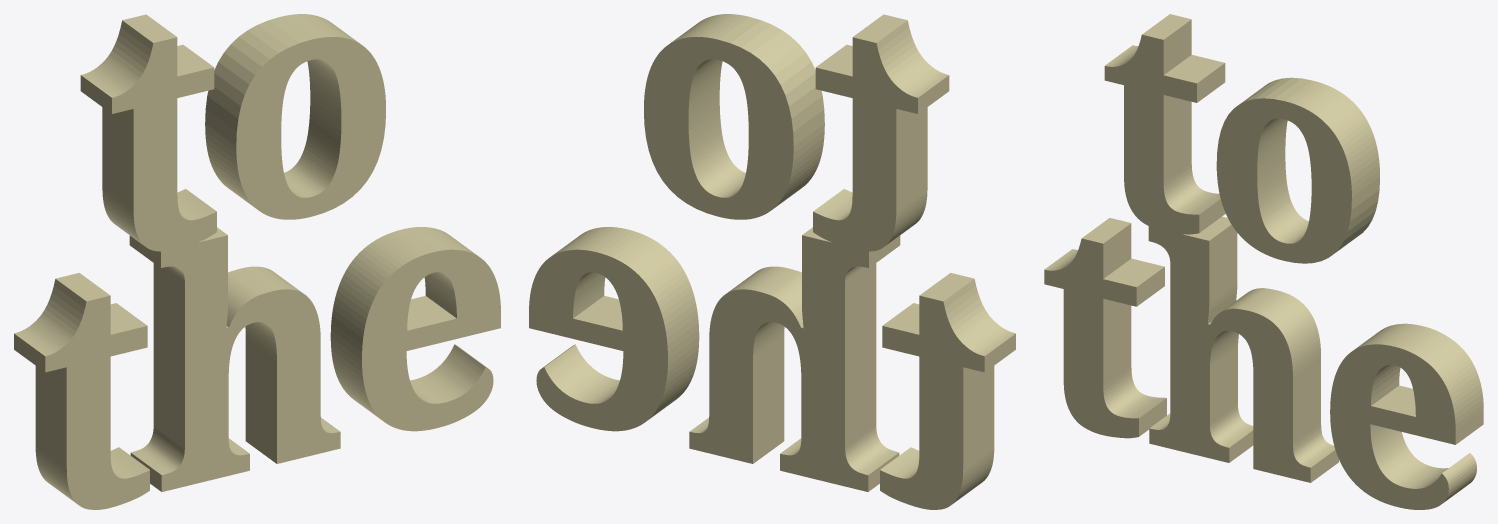
File: tothe.glb
The picture shows the model from 3 angles, left to right: view 1: azimuth 30°, elevation 25°; view 2: azimuth 150°, elevation 25°; view 3: azimuth 330°, elevation 25°; orthographic projection. The views are drawn at different scales.
Visible parts, largest first — view 1: Mesh_Mesh_head_geo.001_lambert2SG.001; view 2: Mesh_Mesh_head_geo.001_lambert2SG.001; view 3: Mesh_Mesh_head_geo.001_lambert2SG.001.
Part boxes in pixels (x1,y1,x2,y2): Mesh_Mesh_head_geo.001_lambert2SG.001: [14, 14, 500, 509]; Mesh_Mesh_head_geo.001_lambert2SG.001: [529, 14, 1015, 509]; Mesh_Mesh_head_geo.001_lambert2SG.001: [1044, 14, 1483, 509].
Bounding box in the file's own units: 33.74 × 32.14 × 4.
